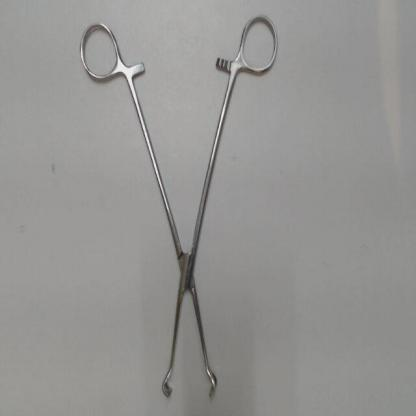8 Babcock Tissue Forceps: (76, 8, 285, 403)
